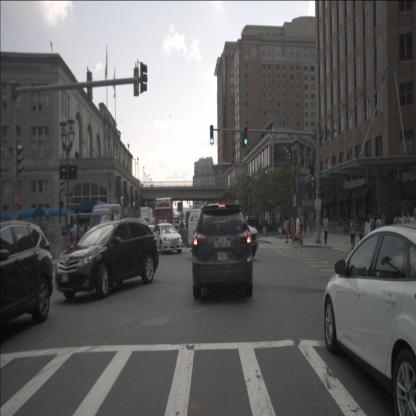cone: (66, 233, 68, 249), (69, 233, 71, 249), (74, 234, 76, 246)
